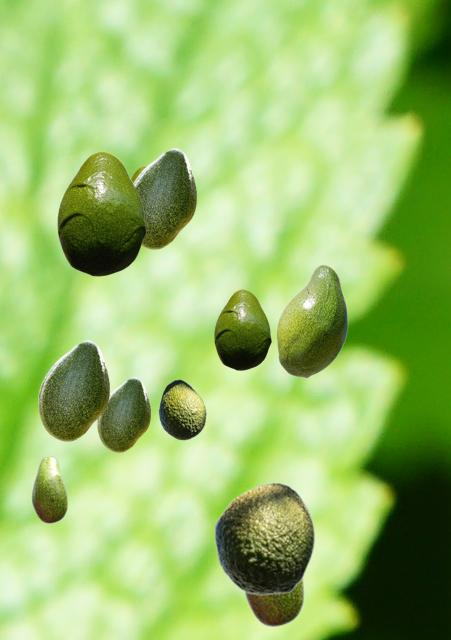avocado: (213, 482, 314, 594), (57, 151, 145, 275), (276, 264, 347, 377), (38, 340, 108, 440), (133, 148, 195, 248), (214, 289, 270, 369), (97, 377, 149, 451), (243, 577, 304, 627), (158, 379, 205, 439), (31, 455, 67, 523)
